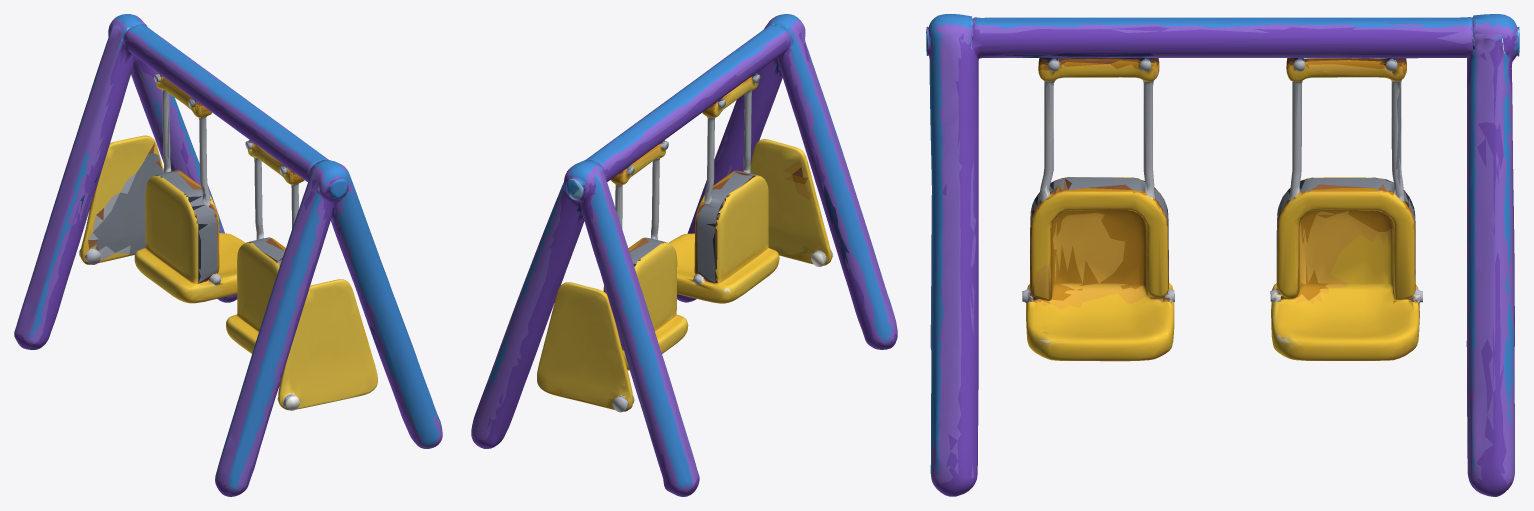
File: SM_swing_kids.fbx
The picture shows the model from 3 angles, left to right: view 1: azimuth 30°, elevation 25°; view 2: azimuth 150°, elevation 25°; view 3: azimuth 270°, elevation 25°; orthographic projection. The views are drawn at different scales.
Visible parts, largest first — view 1: SM_swing_kids; view 2: SM_swing_kids; view 3: SM_swing_kids.
Boxes of the visible parts, bbox=[...] form: SM_swing_kids: bbox=[14, 14, 442, 496]; SM_swing_kids: bbox=[471, 14, 897, 496]; SM_swing_kids: bbox=[926, 14, 1519, 496].
Bounding box in the file's own units: 137 × 180 × 234.
Materials: 1 (1 with a texture image).
